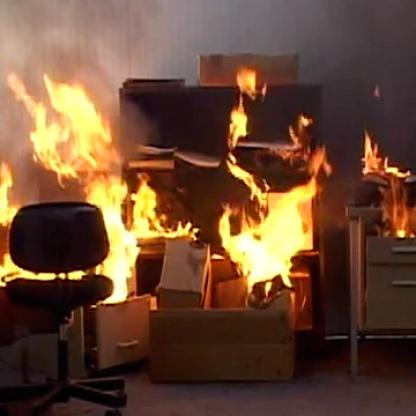fire: (0, 76, 197, 305), (218, 68, 328, 291), (359, 132, 416, 239)
smoke: (0, 1, 416, 225)
